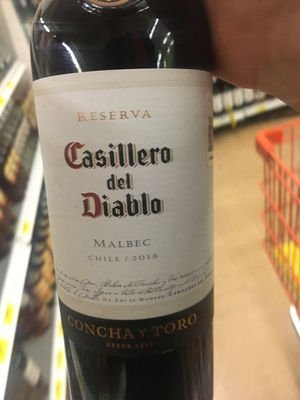casillero del diablo malbec: (18, 4, 259, 398)
